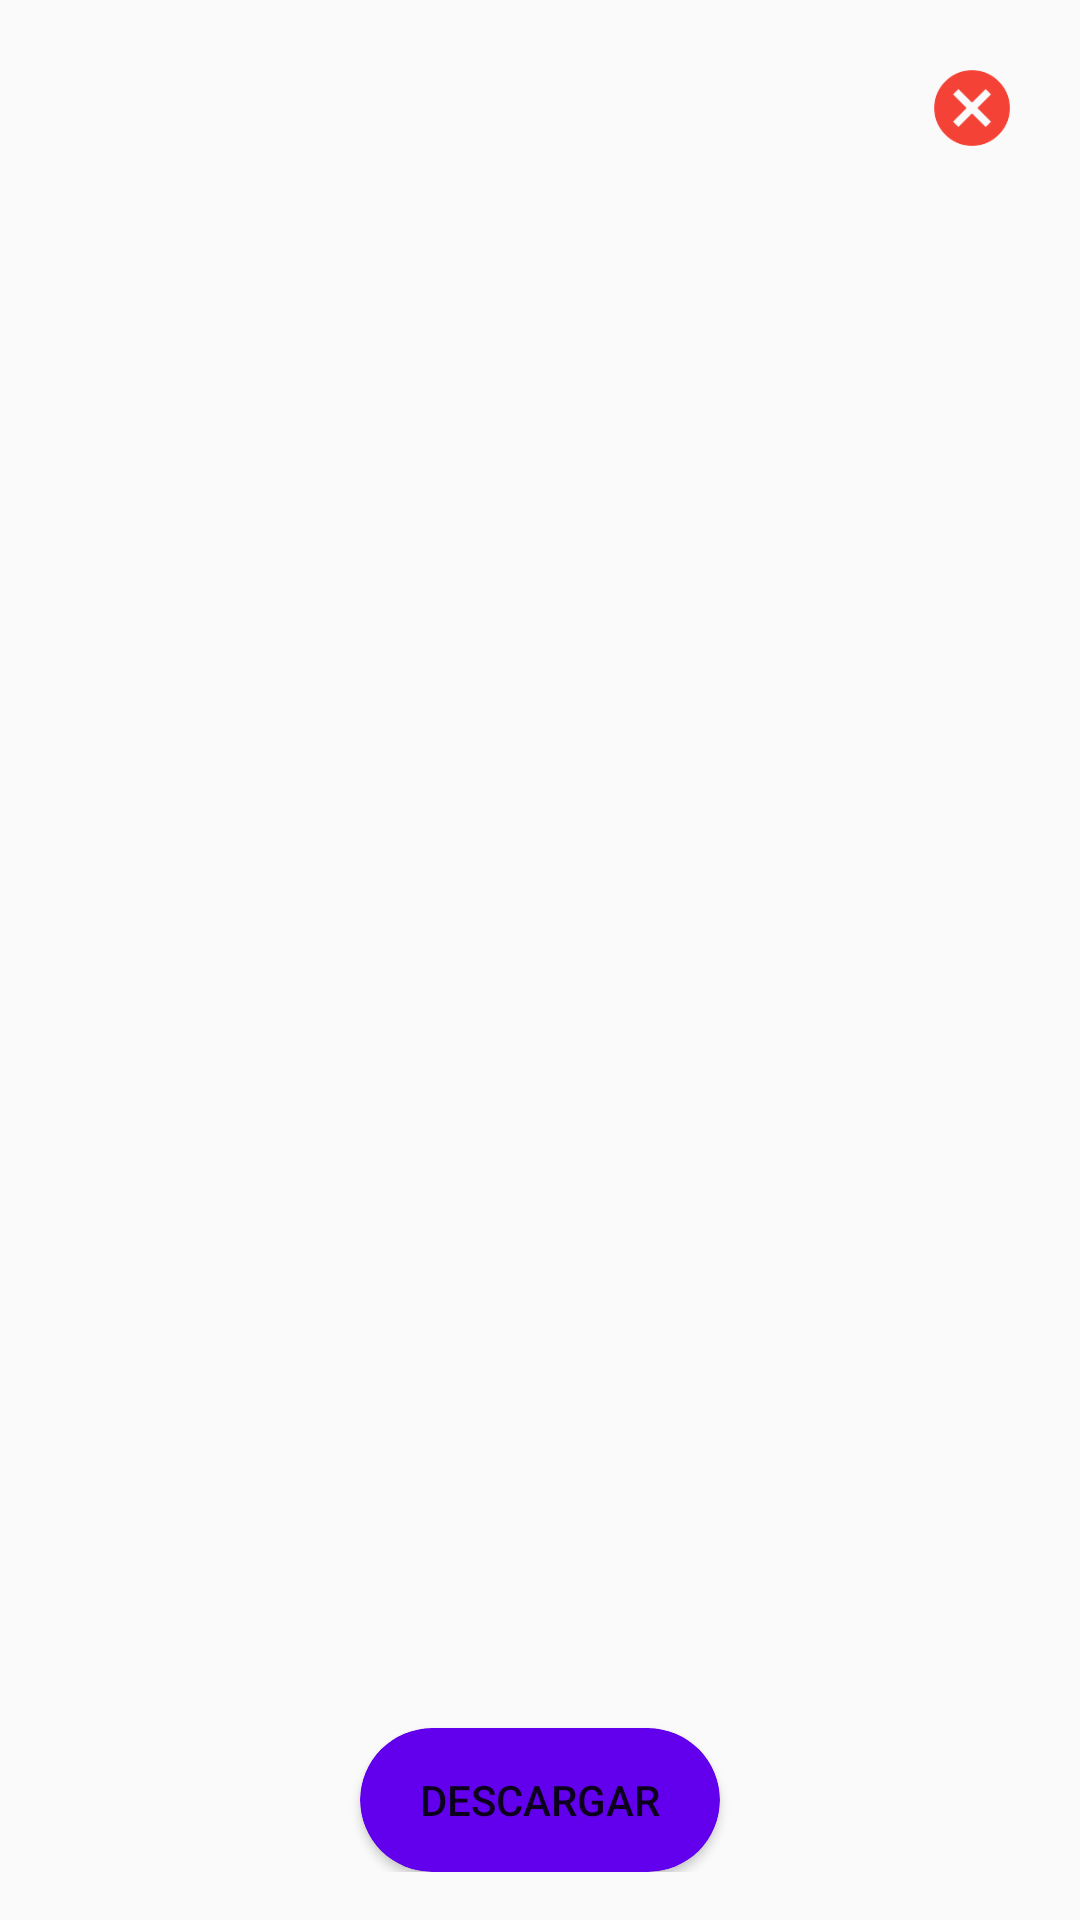

Where to tap for icons on this 1080px x 1920px app screen, as (x,y):
cancel: (972,108)
